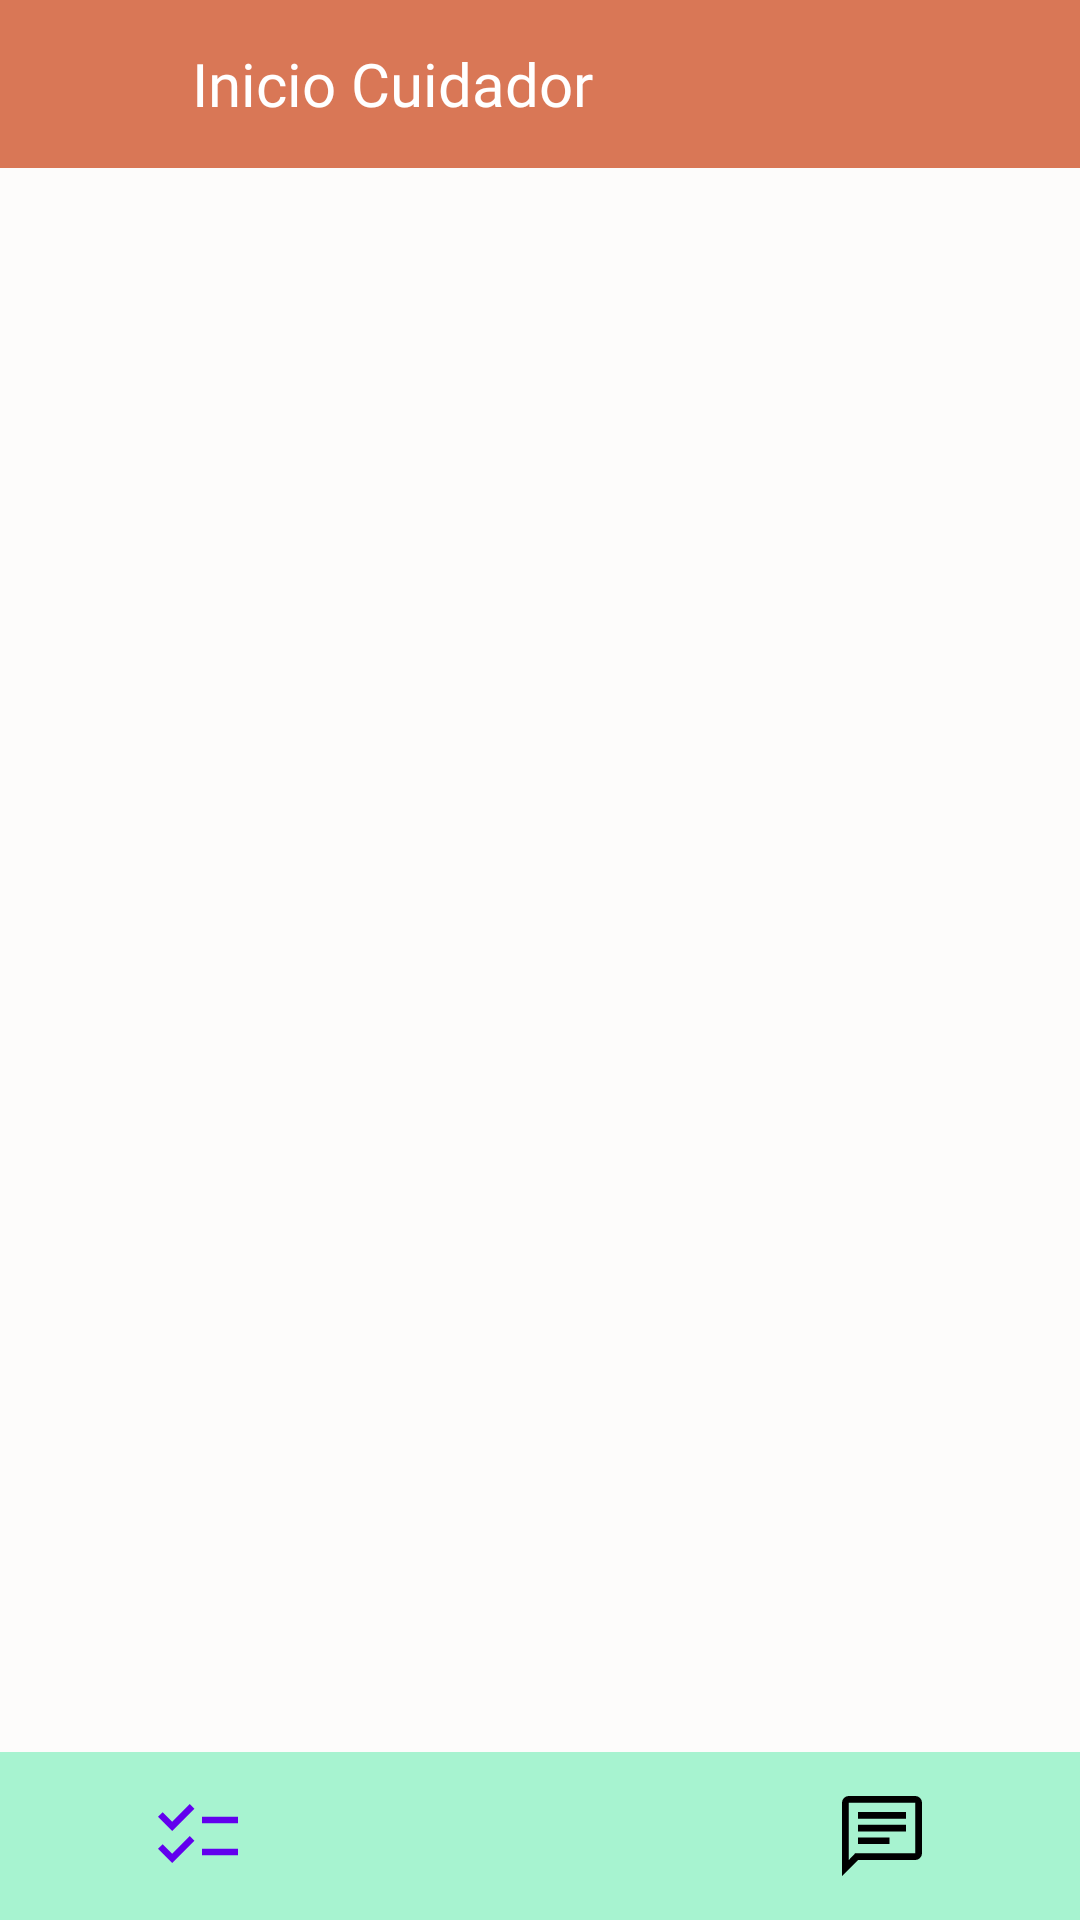

Point at icon controls on the screen. Image size 1080x1920, points as (x,y).
mis chats: (882,1836)
